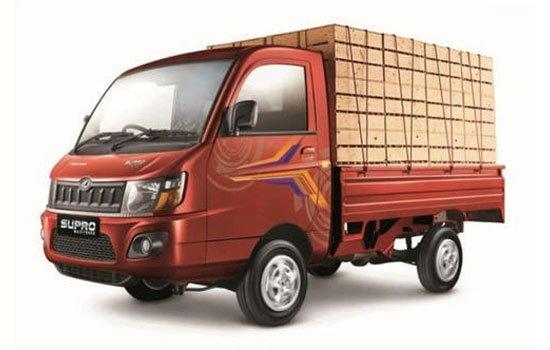truck: (41, 23, 505, 327)
